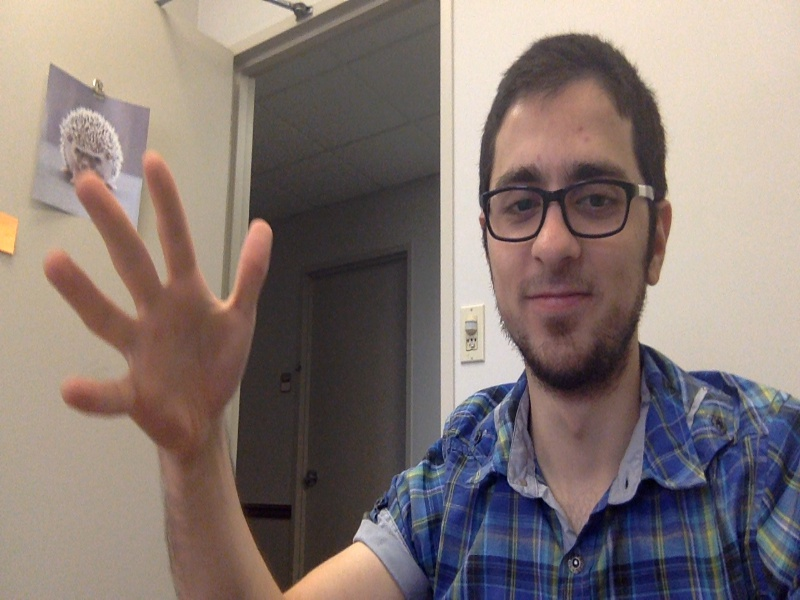5-hand: (44, 152, 273, 449)
